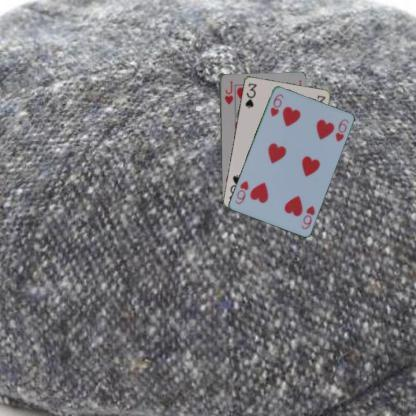3s: (242, 80, 258, 110)
6h: (298, 203, 316, 230), (267, 92, 285, 118)
Jh: (222, 78, 234, 105)
